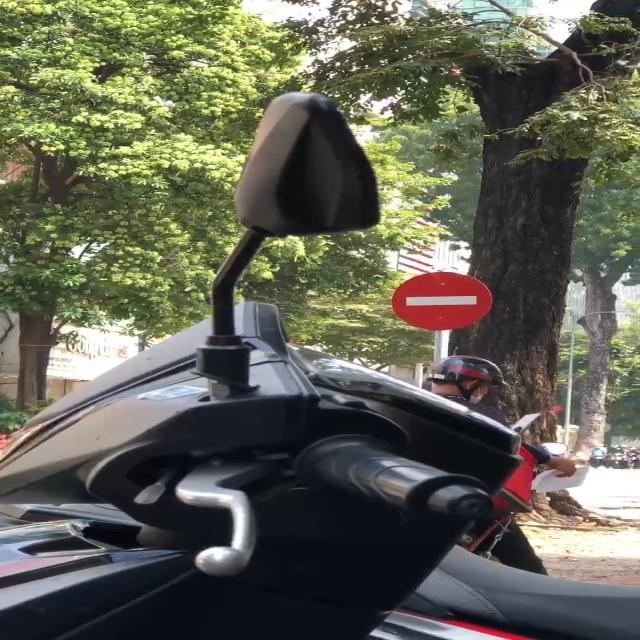Bien bao cam di nguoc chieu: (389, 270, 495, 331)
